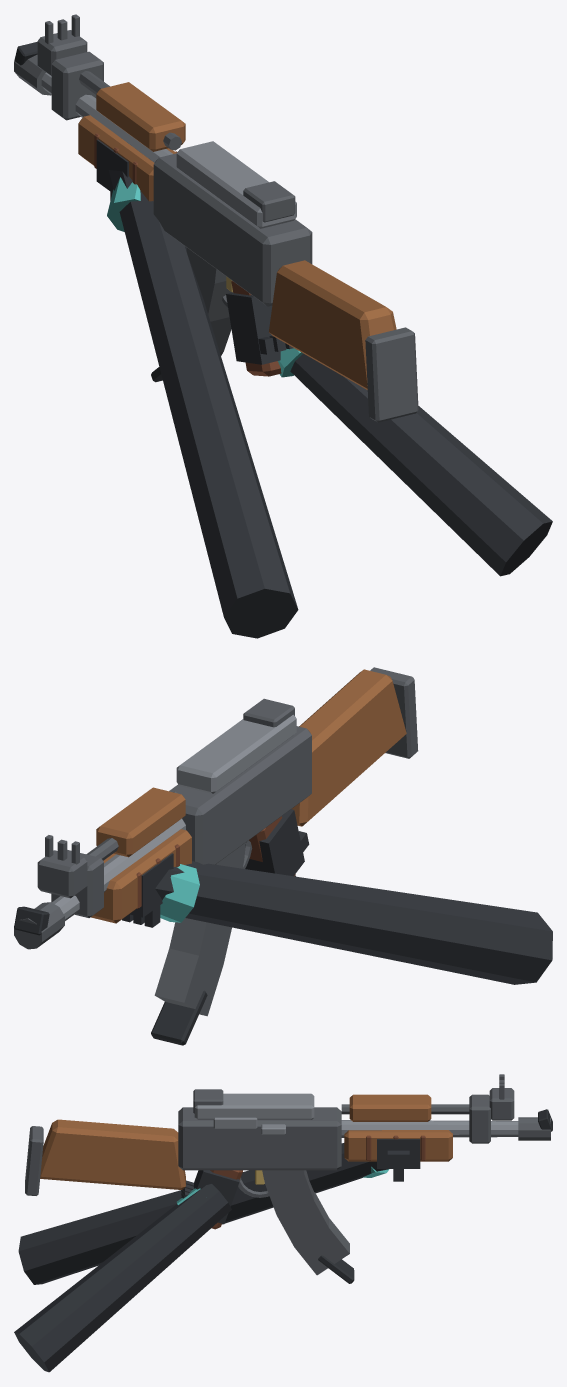
3 views of the same model, one above another, from view 1: azimuth 30°, elevation 25°; view 2: azimuth 150°, elevation 25°; view 3: azimuth 270°, elevation 25° (orthographic). The views are drawn at different scales.
Parts seen in each view (by area): view 1: Arm_Forearm_L, Arm_Forearm_R, AK_Receiver.001, AK_Stock.001, AK_Buttplate.001, AK_DustCover.001, AK_UpperHandguard.001, Arm_Hand_R, AK_GasBlock.001, AK_LowerHandguard.001, AK_Magazine.001, AK_RearSight.001 (+4 smaller); view 2: Arm_Forearm_L, AK_Receiver.001, AK_Stock.001, AK_Magazine.001, AK_DustCover.001, AK_UpperHandguard.001, AK_LowerHandguard.001, Arm_Hand_R, AK_FrontSightBase.001, AK_Buttplate.001, AK_MagPlate.001, Arm_WristBand_L (+7 smaller); view 3: Arm_Forearm_R, Arm_Forearm_L, AK_Stock.001, AK_Receiver.001, AK_Magazine.001, AK_DustCover.001, AK_UpperHandguard.001, AK_LowerHandguard.001, AK_Barrel.001, AK_GasBlock.001, AK_Buttplate.001, Arm_Hand_L (+8 smaller).
Part boxes in pixels (x1,y1,x2,y2): Arm_Forearm_L: (109,170,298,638); Arm_Forearm_R: (290,353,552,576); AK_Receiver.001: (153,153,312,306); AK_Stock.001: (269,260,396,389); AK_Buttplate.001: (365,327,418,422); AK_DustCover.001: (176,141,296,228); AK_UpperHandguard.001: (96,82,185,151); Arm_Hand_R: (226,292,280,364); AK_GasBlock.001: (51,51,103,120); AK_LowerHandguard.001: (78,115,176,201); AK_Magazine.001: (186,248,231,355); AK_RearSight.001: (243,181,295,222); Arm_Forearm_L: (155,861,552,984); AK_Receiver.001: (169,726,311,864); AK_Stock.001: (292,669,406,826); AK_Magazine.001: (154,842,245,1016); AK_DustCover.001: (176,714,296,793); AK_UpperHandguard.001: (96,787,185,857); AK_LowerHandguard.001: (91,829,191,923); Arm_Hand_R: (245,809,304,876); AK_FrontSightBase.001: (37,850,87,898); AK_Buttplate.001: (370,667,418,758); AK_MagPlate.001: (151,990,207,1045); Arm_WristBand_L: (160,864,199,922); Arm_Forearm_R: (14,1184,231,1372); Arm_Forearm_L: (18,1143,388,1284); AK_Stock.001: (40,1119,185,1189); AK_Receiver.001: (178,1107,341,1170); AK_Magazine.001: (262,1170,349,1275); AK_DustCover.001: (194,1093,314,1119); AK_UpperHandguard.001: (349,1094,431,1121); AK_LowerHandguard.001: (344,1130,452,1161); AK_Barrel.001: (341,1120,518,1137); AK_GasBlock.001: (469,1094,490,1143); AK_Buttplate.001: (25,1126,43,1195); Arm_Hand_L: (377,1139,420,1168).
Size of the model in its own units: 0.4923 by 0.5054 by 0.9914.
